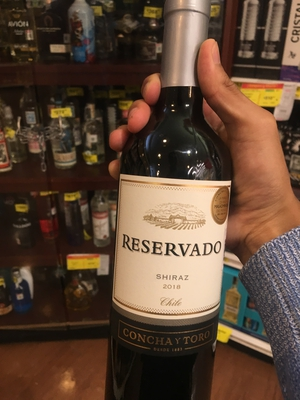reservado shiraz: (106, 23, 249, 396)
